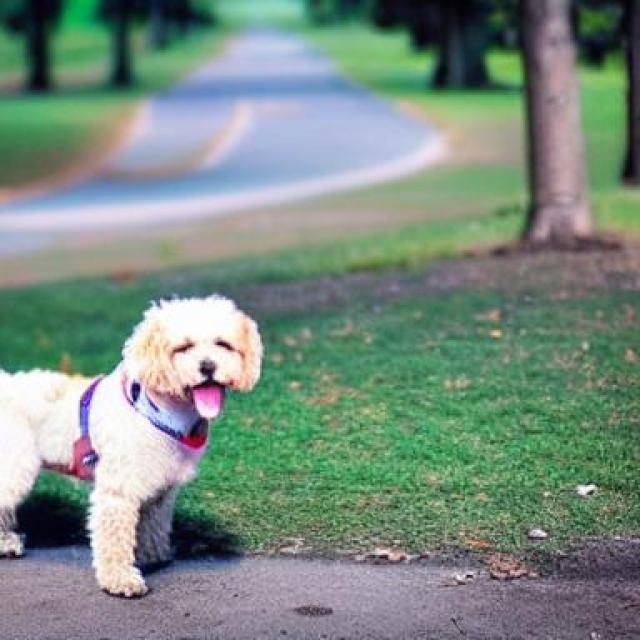Dog: (0, 295, 264, 598)
